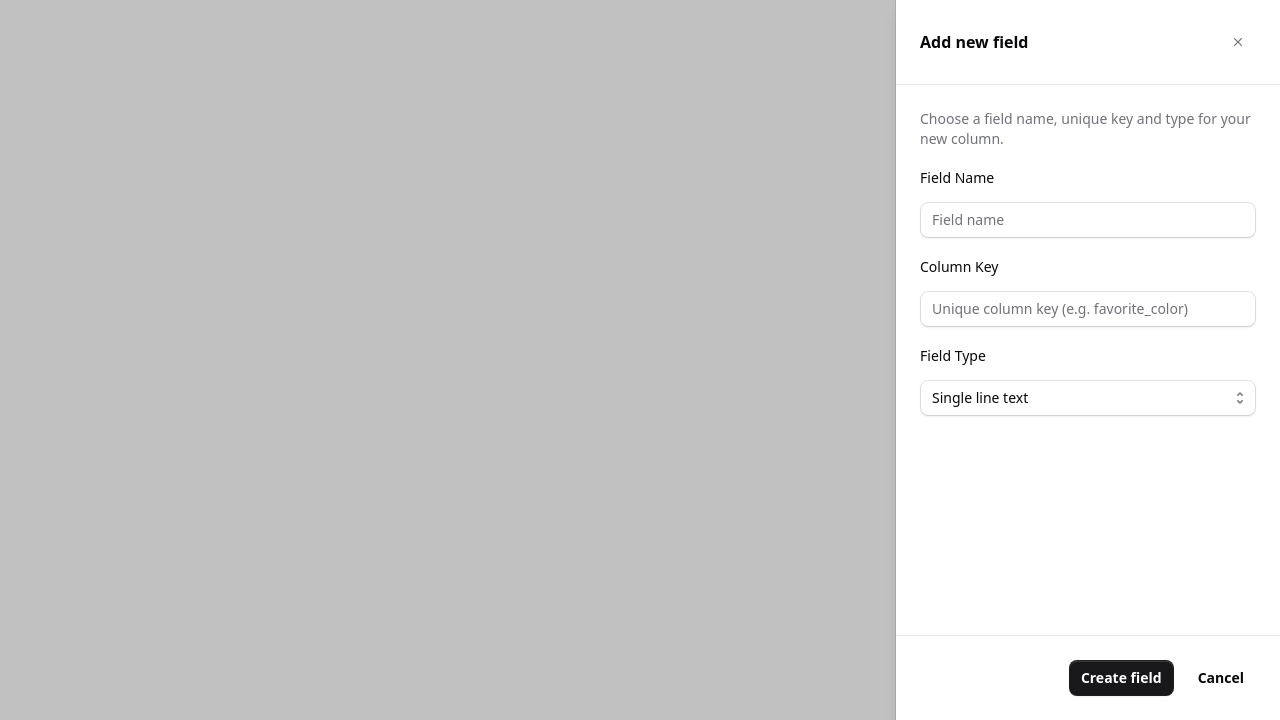
AddColumnDialog › shows options builder when Select type is selected
Select "Select" in the dropdown: [1088, 398] box [920, 380, 1256, 416]
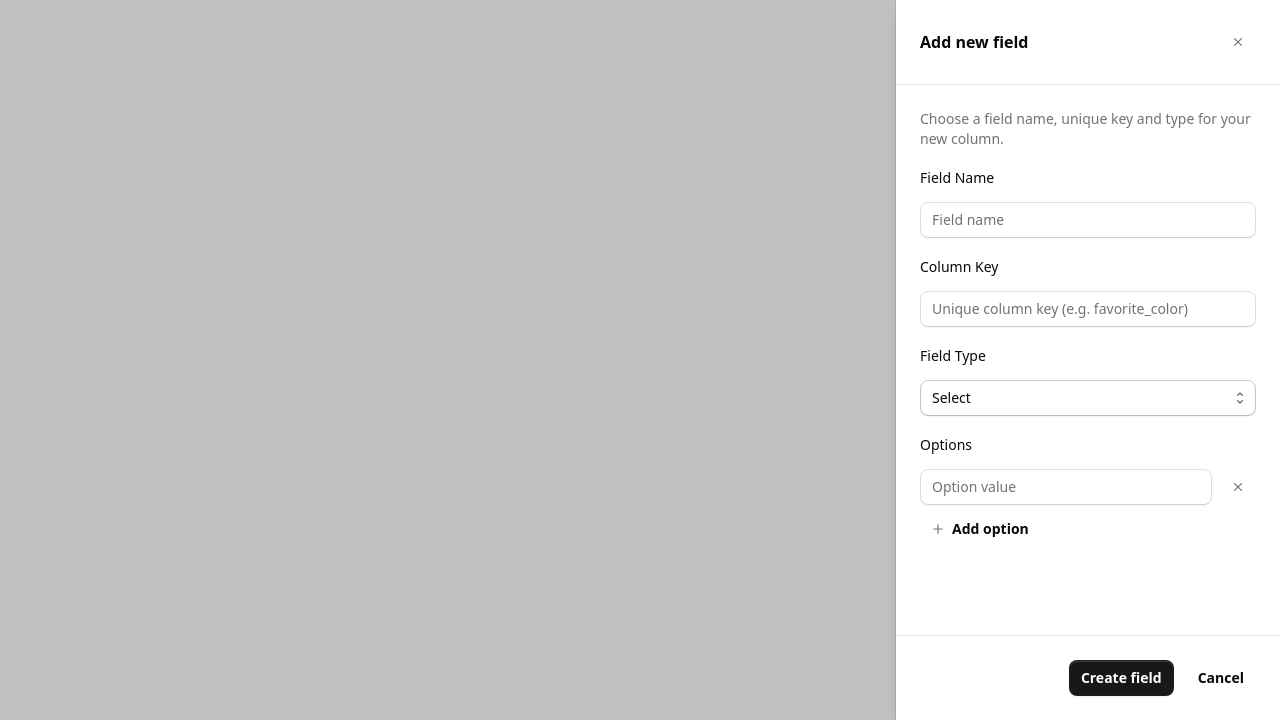
Now the text "Options" is shown, box [920, 435, 972, 454]
